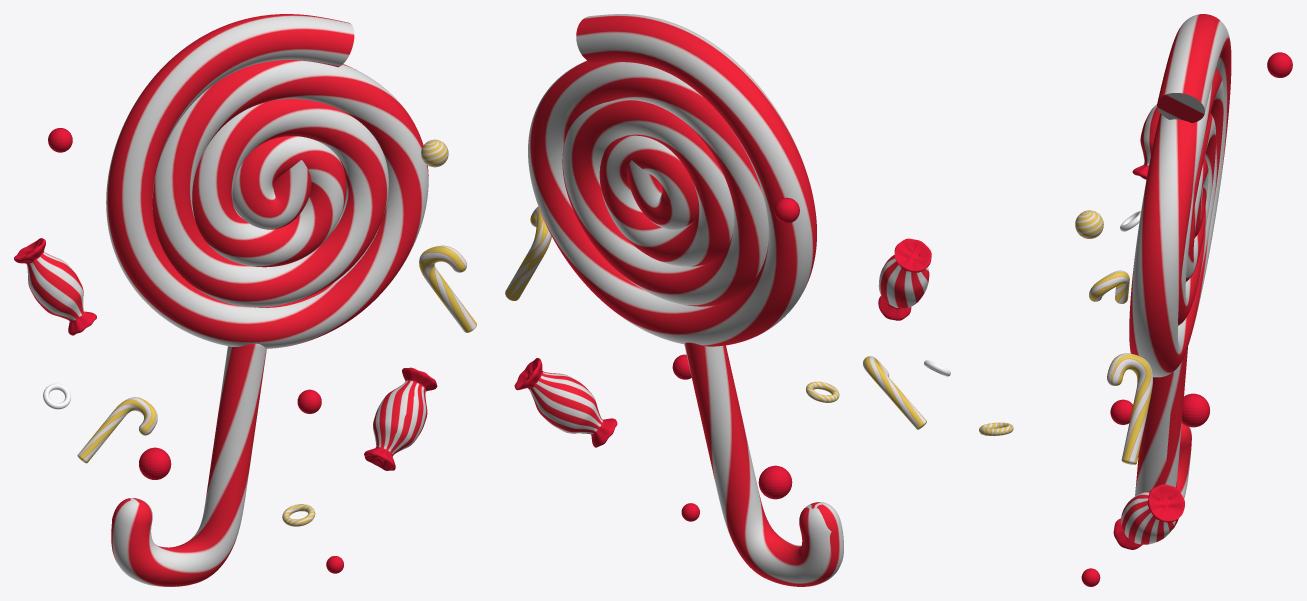
Rendered from lollipop-candy-3d-animated-icon-721212378698.glb.
3 views of the same model, side by side, from view 1: azimuth 30°, elevation 25°; view 2: azimuth 150°, elevation 25°; view 3: azimuth 270°, elevation 25° (orthographic). The views are drawn at different scales.
Parts seen in each view (by area): view 1: NurbsPath, NurbsPath.001, Cube.003, Cube, NurbsPath.004, NurbsPath.002, Sphere, Sphere.001; view 2: NurbsPath, NurbsPath.001, Cube.003, Cube, NurbsPath.004, NurbsPath.002, Sphere; view 3: NurbsPath, NurbsPath.001, Cube.003, NurbsPath.004, NurbsPath.002, Cube, Sphere, Sphere.001, Sphere.003, Sphere.002.
Part boxes in pixels (x1=…): NurbsPath: x1=106, y1=14, x2=428, y2=348; NurbsPath.001: x1=111, y1=343, x2=266, y2=586; Cube.003: x1=364, y1=367, x2=437, y2=470; Cube: x1=14, y1=238, x2=96, y2=335; NurbsPath.004: x1=419, y1=245, x2=476, y2=332; NurbsPath.002: x1=77, y1=397, x2=157, y2=463; Sphere: x1=139, y1=447, x2=171, y2=479; Sphere.001: x1=421, y1=139, x2=448, y2=167; NurbsPath: x1=528, y1=14, x2=816, y2=346; NurbsPath.001: x1=684, y1=342, x2=843, y2=586; Cube.003: x1=514, y1=358, x2=617, y2=447; Cube: x1=878, y1=238, x2=931, y2=320; NurbsPath.004: x1=505, y1=206, x2=551, y2=300; NurbsPath.002: x1=863, y1=356, x2=926, y2=429; Sphere: x1=758, y1=465, x2=792, y2=499; NurbsPath: x1=1129, y1=14, x2=1231, y2=377; NurbsPath.001: x1=1135, y1=347, x2=1191, y2=529; Cube.003: x1=1113, y1=484, x2=1184, y2=549; NurbsPath.004: x1=1107, y1=353, x2=1152, y2=464; NurbsPath.002: x1=1089, y1=270, x2=1129, y2=303; Cube: x1=1132, y1=104, x2=1159, y2=179; Sphere: x1=1182, y1=393, x2=1209, y2=427; Sphere.001: x1=1075, y1=210, x2=1103, y2=238; Sphere.003: x1=1267, y1=52, x2=1292, y2=77; Sphere.002: x1=1110, y1=399, x2=1132, y2=424.
Size of the model in its own units: 5.35 by 6.23 by 3.22.
Materials: 6 (3 with a texture image).
